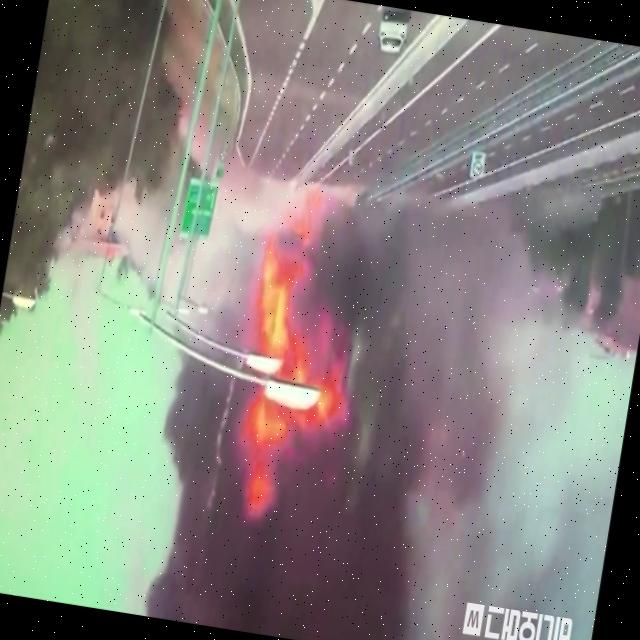explosion: (85, 109, 513, 640)
